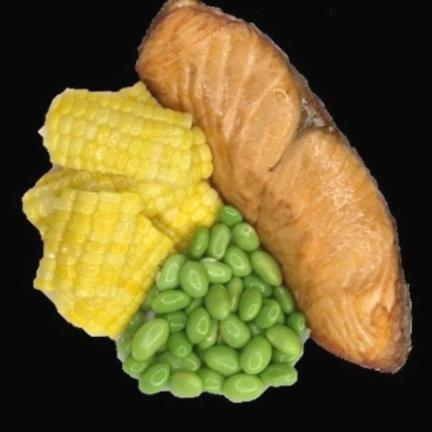corn: (23, 83, 226, 340)
fish: (137, 0, 412, 369)
peas: (119, 206, 309, 405)
